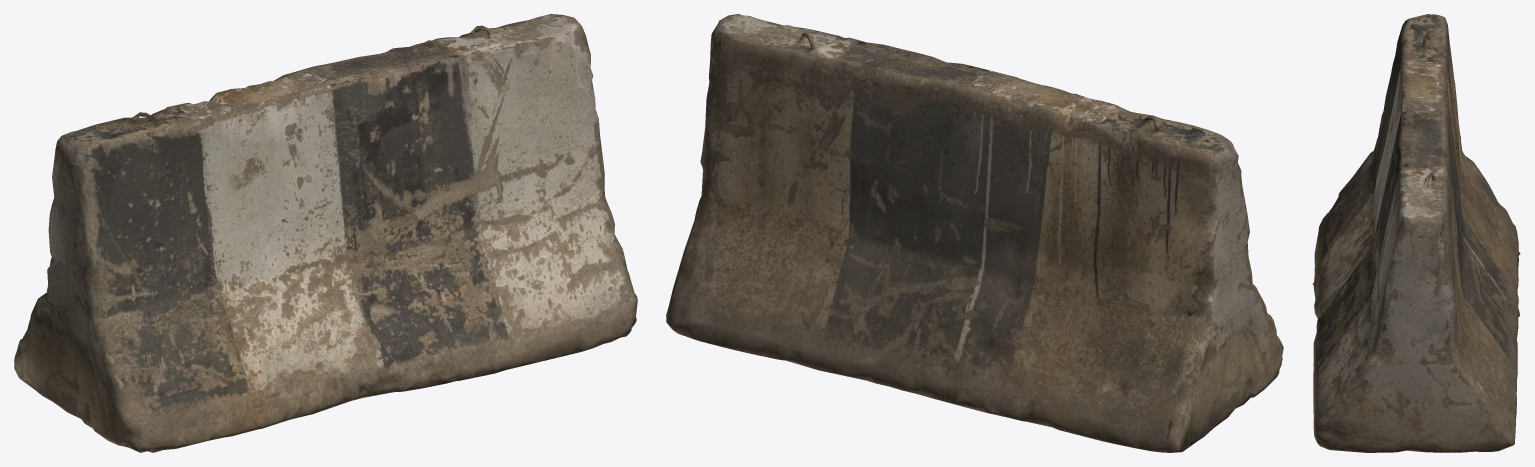
The model's file is ph_concrete_road_barrier.glb.
3 renders of one model, left to right at view 1: azimuth 30°, elevation 25°; view 2: azimuth 150°, elevation 25°; view 3: azimuth 270°, elevation 25°, orthographic. The views are drawn at different scales.
Visible parts, largest first — view 1: concrete_road_barrier; view 2: concrete_road_barrier; view 3: concrete_road_barrier.
Boxes of the visible parts, x1,y1,x2,y2 form: concrete_road_barrier: [14, 14, 637, 452]; concrete_road_barrier: [666, 14, 1283, 452]; concrete_road_barrier: [1312, 14, 1520, 452].
Size of the model in its own units: 1.54 by 0.8304 by 0.6387.
1 material, 1 textured.
